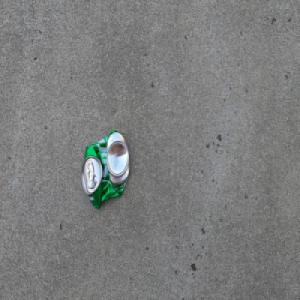SodaCan: (81, 129, 130, 210)
